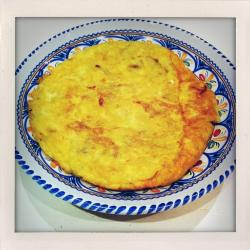omelette: (31, 40, 215, 190)
